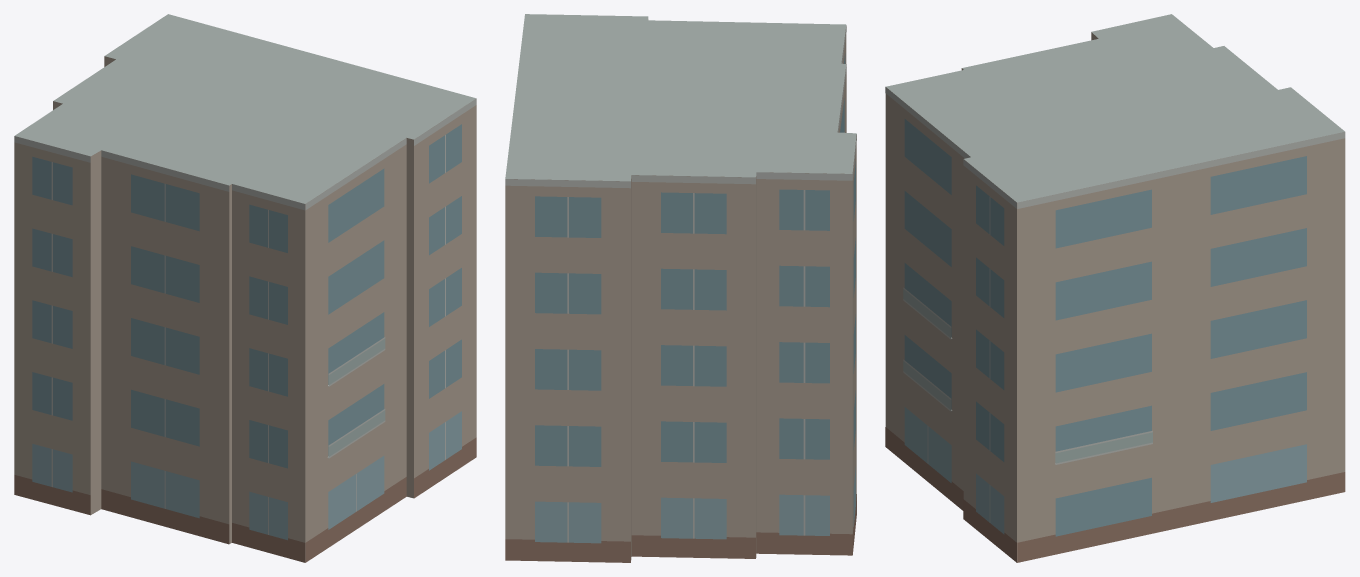
Rendered from survey-upis-32659101.glb.
3 renders of one model, left to right at view 1: azimuth 30°, elevation 25°; view 2: azimuth 150°, elevation 25°; view 3: azimuth 270°, elevation 25°, orthographic. The views are drawn at different scales.
Parts seen in each view (by area): view 1: survey-upis-32659101.tmp; view 2: survey-upis-32659101.tmp; view 3: survey-upis-32659101.tmp.
Part boxes in pixels (<box>): survey-upis-32659101.tmp: <box>14,14,476,562</box>; survey-upis-32659101.tmp: <box>505,14,856,562</box>; survey-upis-32659101.tmp: <box>885,14,1345,562</box>.
Size of the model in its own units: 15.29 by 13.6 by 15.74.
